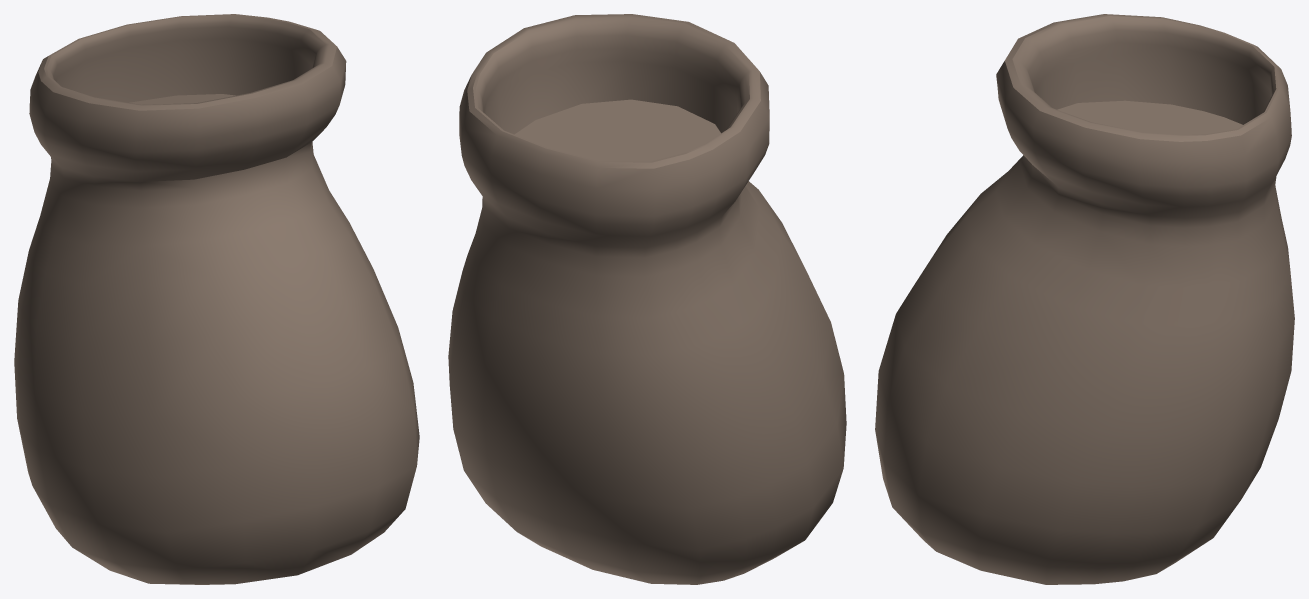
File: model_sacoaberto3_01.fbx
3 renders of one model, left to right at view 1: azimuth 30°, elevation 25°; view 2: azimuth 150°, elevation 25°; view 3: azimuth 270°, elevation 25°, orthographic. The views are drawn at different scales.
Parts seen in each view (by area): view 1: saco parede; view 2: saco parede; view 3: saco parede.
Part boxes in pixels (box(x1,y1,x2,y2)): saco parede: box(14, 14, 419, 584); saco parede: box(448, 14, 846, 584); saco parede: box(875, 14, 1294, 584).
Size of the model in its own units: 217 by 299 by 231.
